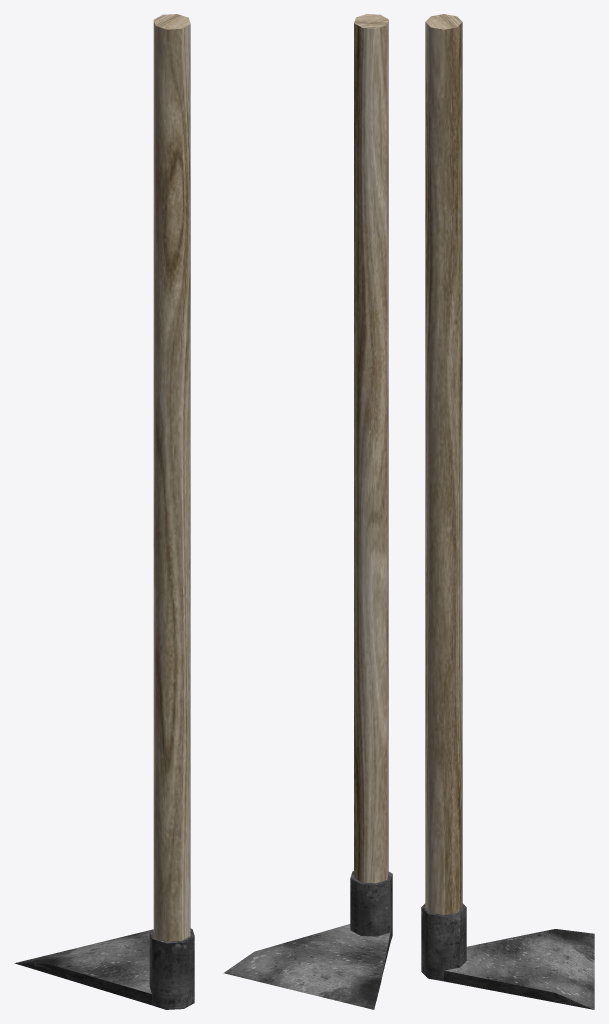
The model's file is Hoe 1.fbx.
3 renders of one model, left to right at view 1: azimuth 30°, elevation 25°; view 2: azimuth 150°, elevation 25°; view 3: azimuth 270°, elevation 25°, orthographic. The views are drawn at different scales.
Parts seen in each view (by area): view 1: Cylinder; view 2: Cylinder; view 3: Cylinder.
Boxes of the visible parts, <box> form: Cylinder: <box>14,14,194,1009</box>; Cylinder: <box>223,14,392,1009</box>; Cylinder: <box>421,14,594,1009</box>.
Size of the model in its own units: 100 by 584 by 96.48.
